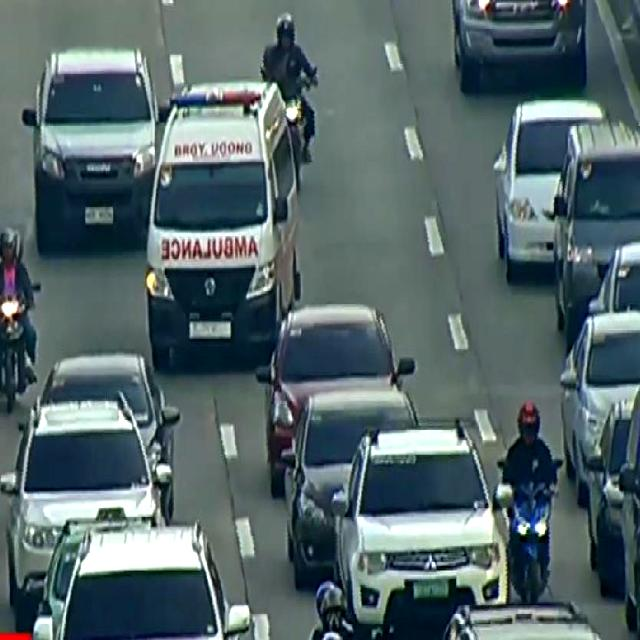emergency: (148, 80, 298, 366)
